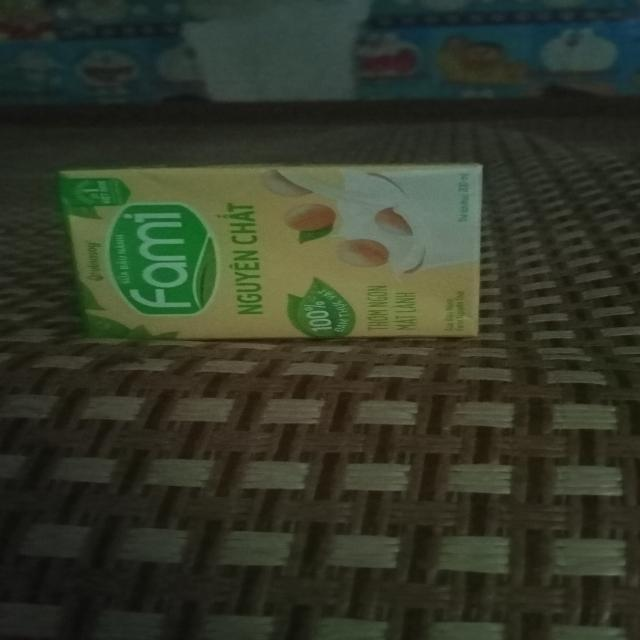Fami: (62, 157, 487, 340)
